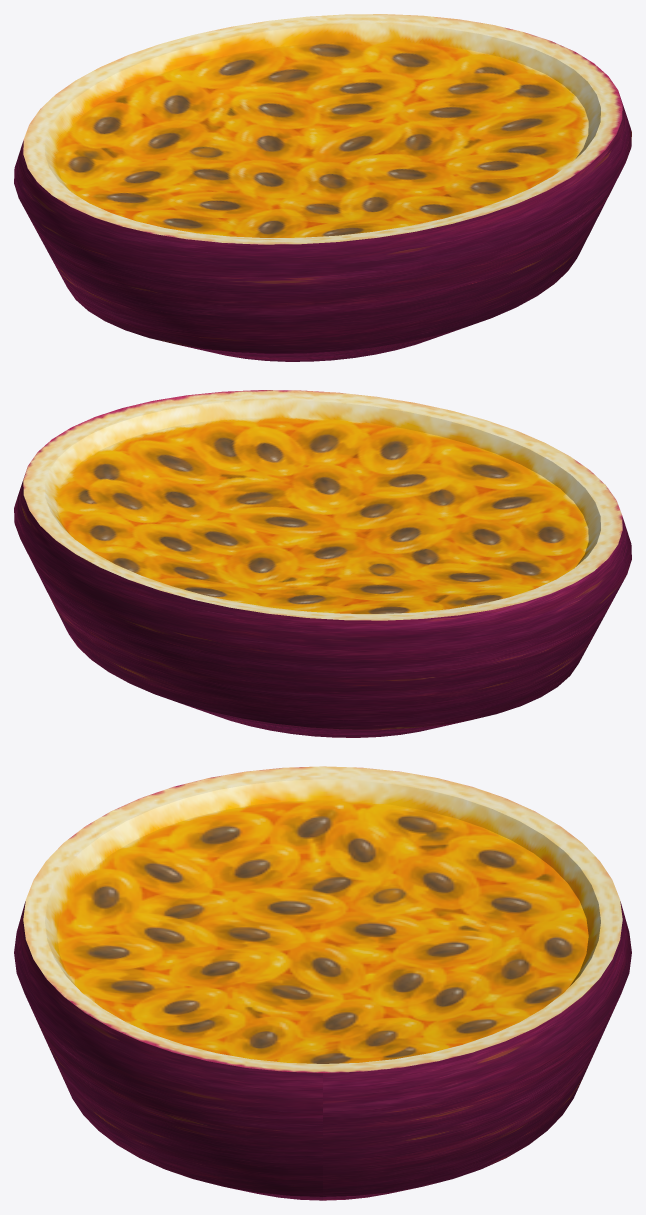
Rendered from passionfruit_half-QGY3rbGT.glb.
3 renders of one model, top to bottom at view 1: azimuth 30°, elevation 25°; view 2: azimuth 150°, elevation 25°; view 3: azimuth 270°, elevation 25°, orthographic. The views are drawn at different scales.
Parts seen in each view (by area): view 1: HI_passionfruit_half; view 2: HI_passionfruit_half; view 3: HI_passionfruit_half.
Boxes of the visible parts, bbox=[...] form: HI_passionfruit_half: bbox=[14, 14, 631, 361]; HI_passionfruit_half: bbox=[14, 390, 631, 737]; HI_passionfruit_half: bbox=[14, 766, 631, 1200].
Size of the model in its own units: 0.92 by 0.28 by 0.76.
1 material, 1 textured.
